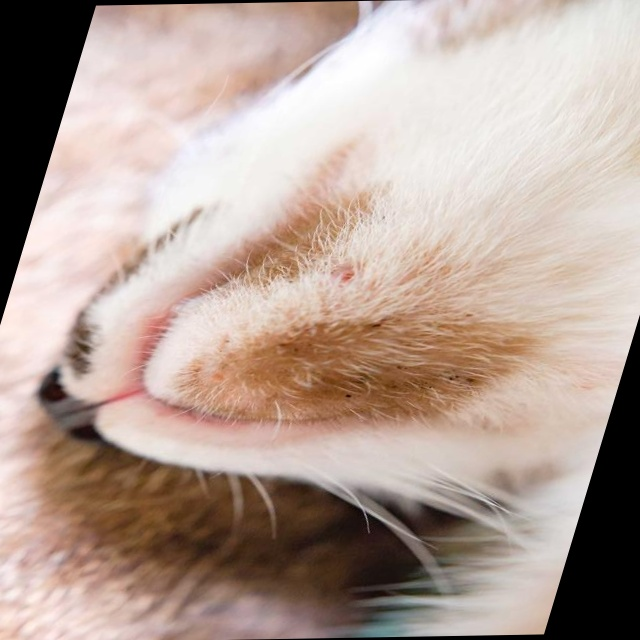acne: (260, 297, 520, 425)
